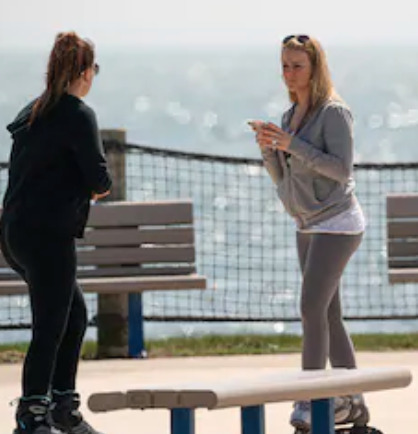Caution: (2, 30, 365, 348)
